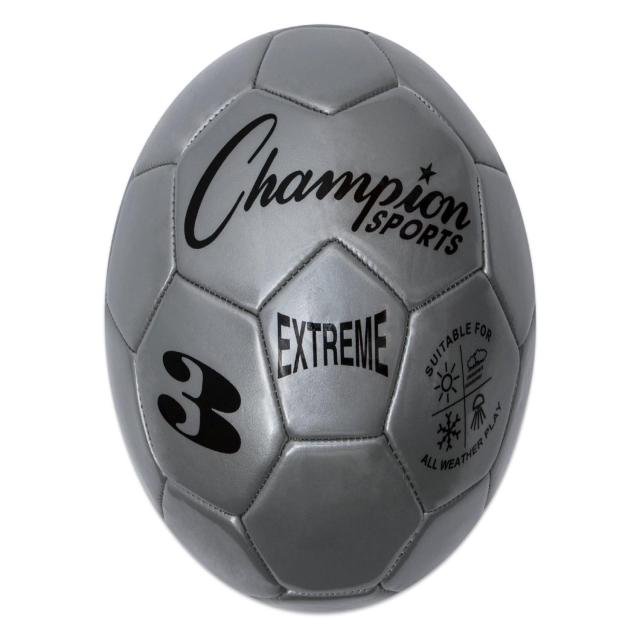Soccer Ball: (102, 26, 535, 614)
